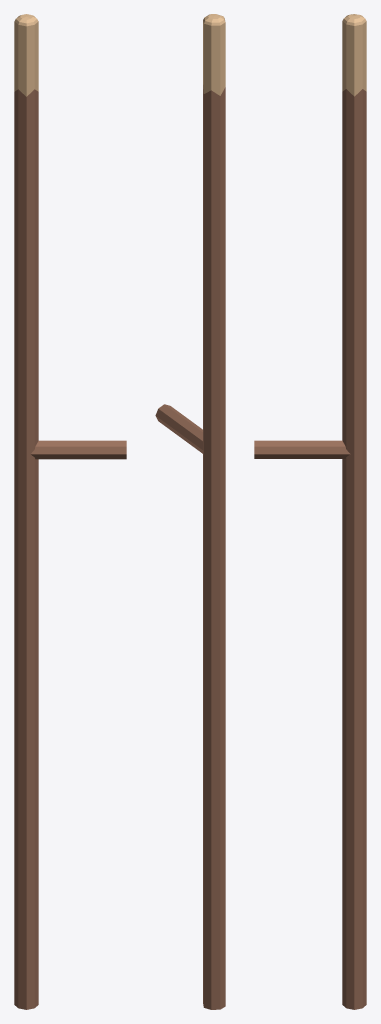
File: Scythe.Handle.fbx
3 views of the same model, side by side, from view 1: azimuth 90°, elevation 25°; view 2: azimuth 210°, elevation 25°; view 3: azimuth 270°, elevation 25° (orthographic).
Parts seen in each view (by area): view 1: Scythe.Handle; view 2: Scythe.Handle; view 3: Scythe.Handle.
Boxes of the visible parts, x1,y1,x2,y2 form: Scythe.Handle: (14,14,126,1009); Scythe.Handle: (155,14,225,1009); Scythe.Handle: (254,14,366,1009).
Size of the model in its own units: 0.0379 by 0.1756 by 1.71.
